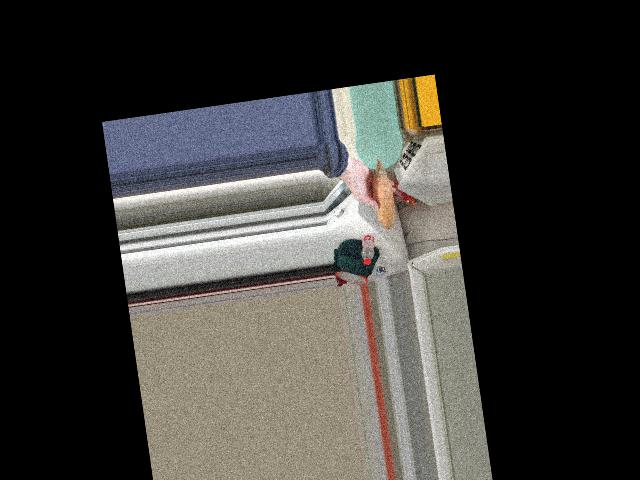sweet_potato: (371, 167, 393, 221)
